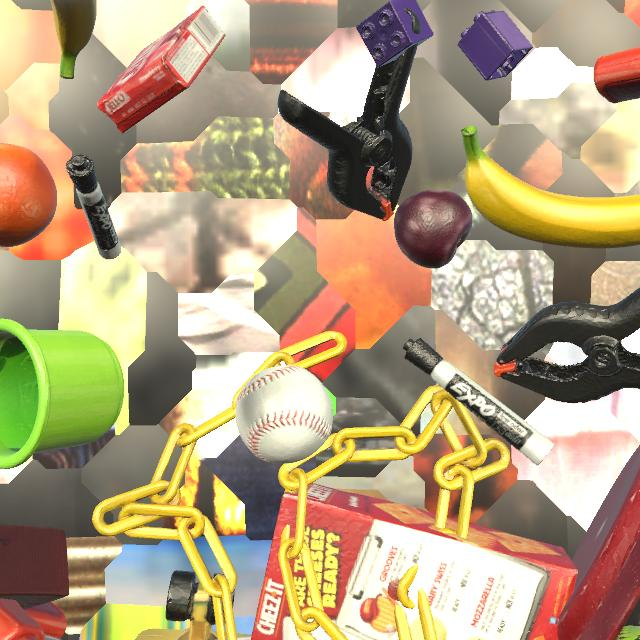ycb_002_master_chef_can: (216, 635, 252, 640)
ycb_003_cracker_box: (251, 483, 578, 640)
ycb_009_gelatin_box: (97, 6, 225, 133)
ycb_011_banana: (461, 126, 640, 249), (51, 0, 97, 79)
ycb_015_peach: (387, 579, 409, 601)
ycb_017_orange: (0, 143, 57, 247)
ycb_018_plum: (394, 190, 473, 269)
